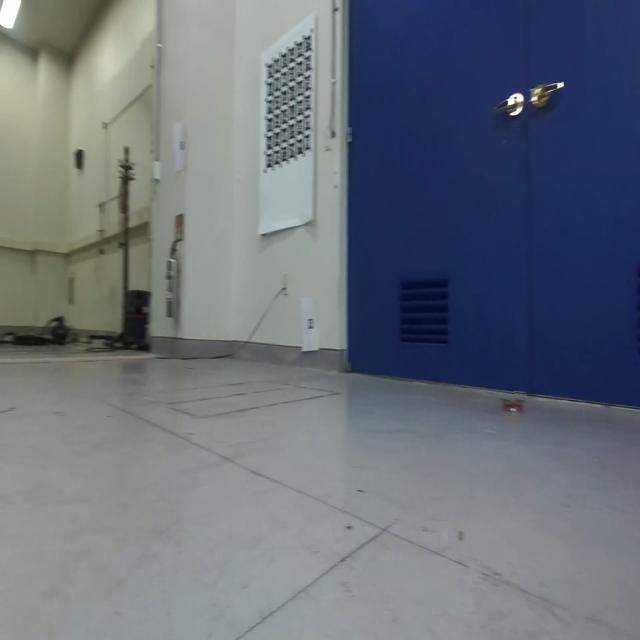crazyflie: (497, 390, 527, 422)
